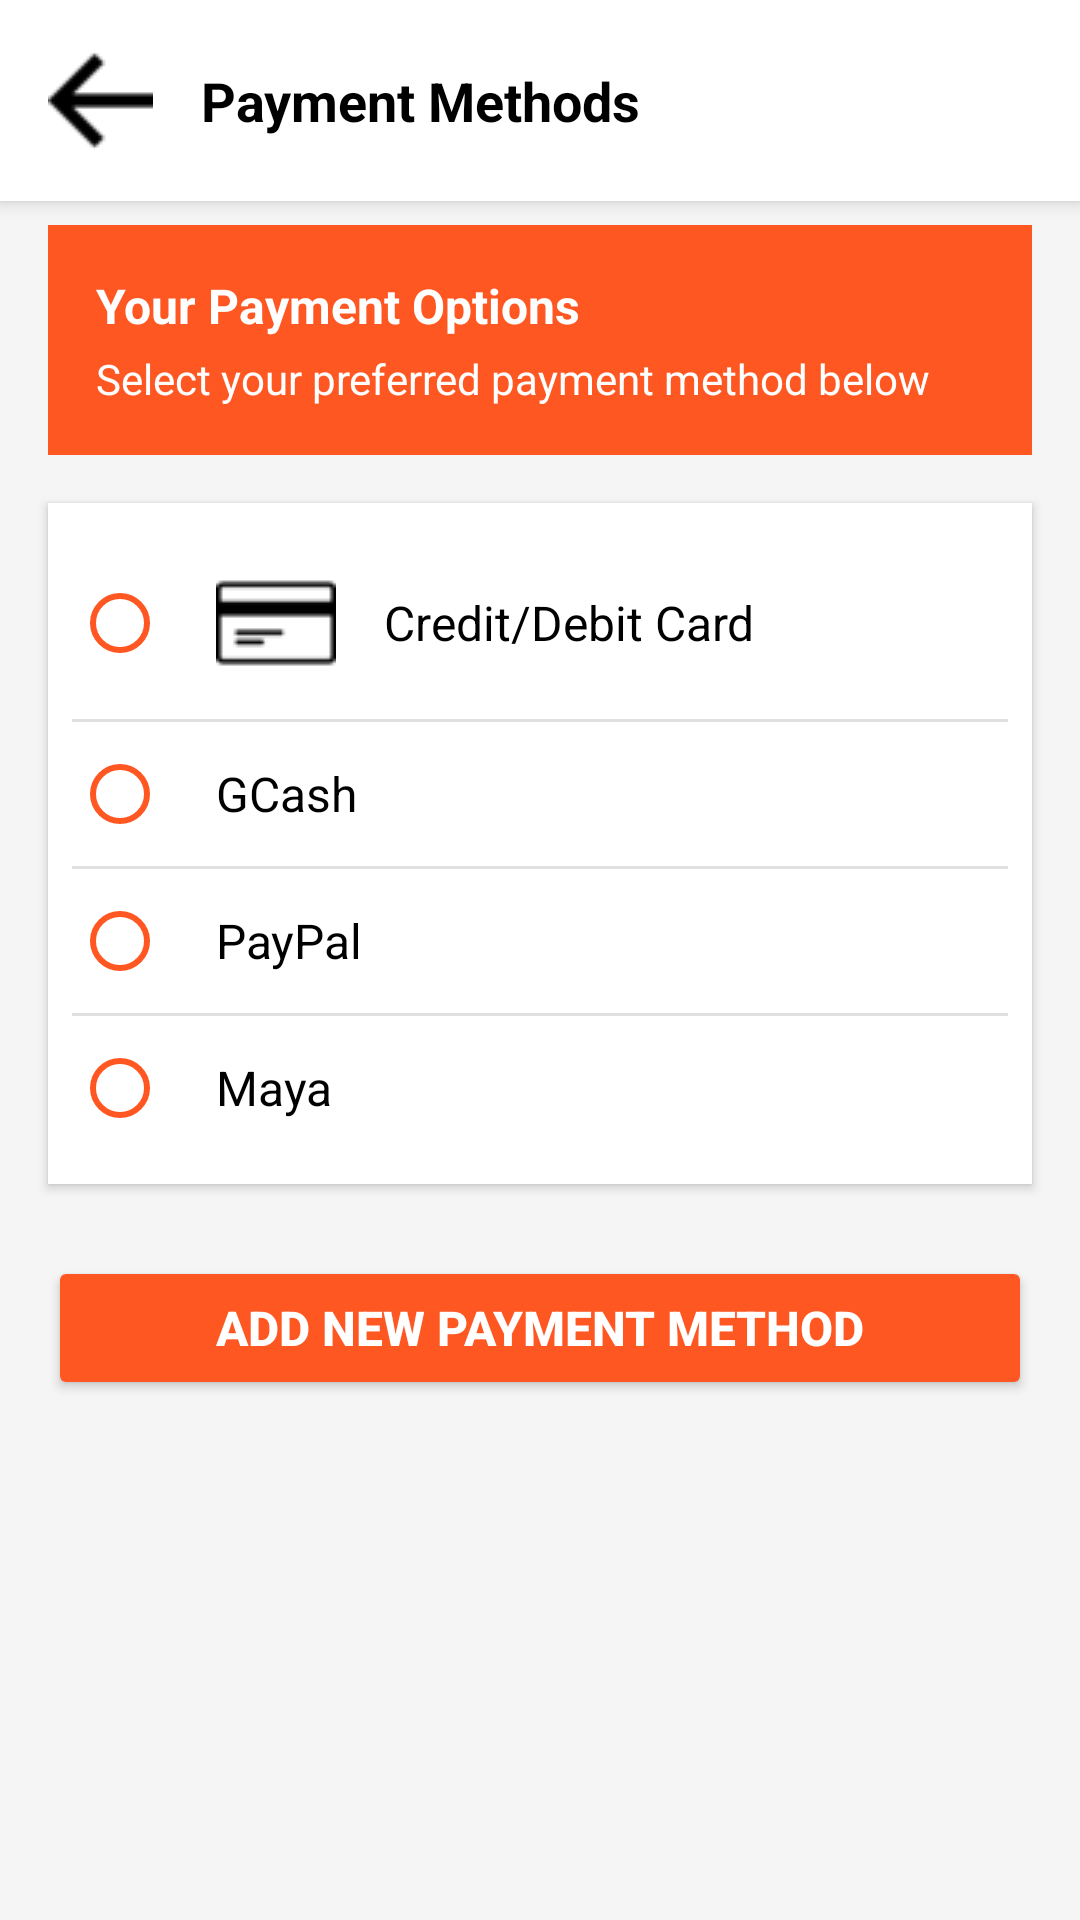

Point at icon controls on the screen. Image size 1080×1920, points as (x,y).
Back button: (100,100)
